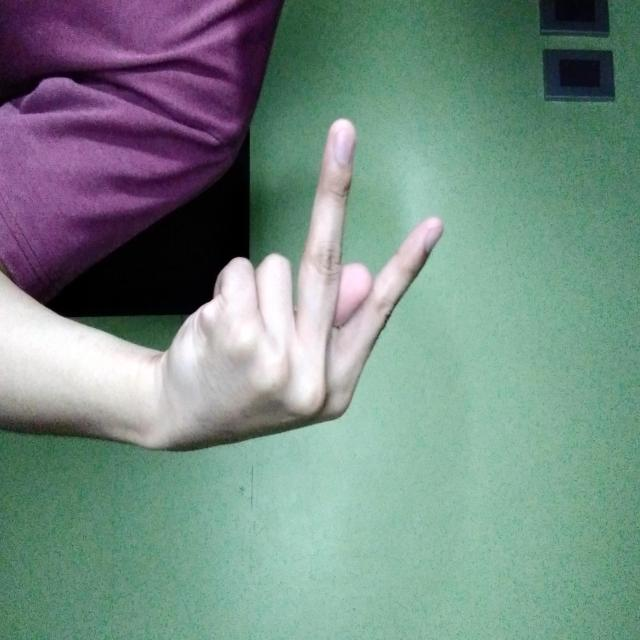K: (116, 192, 454, 480)
